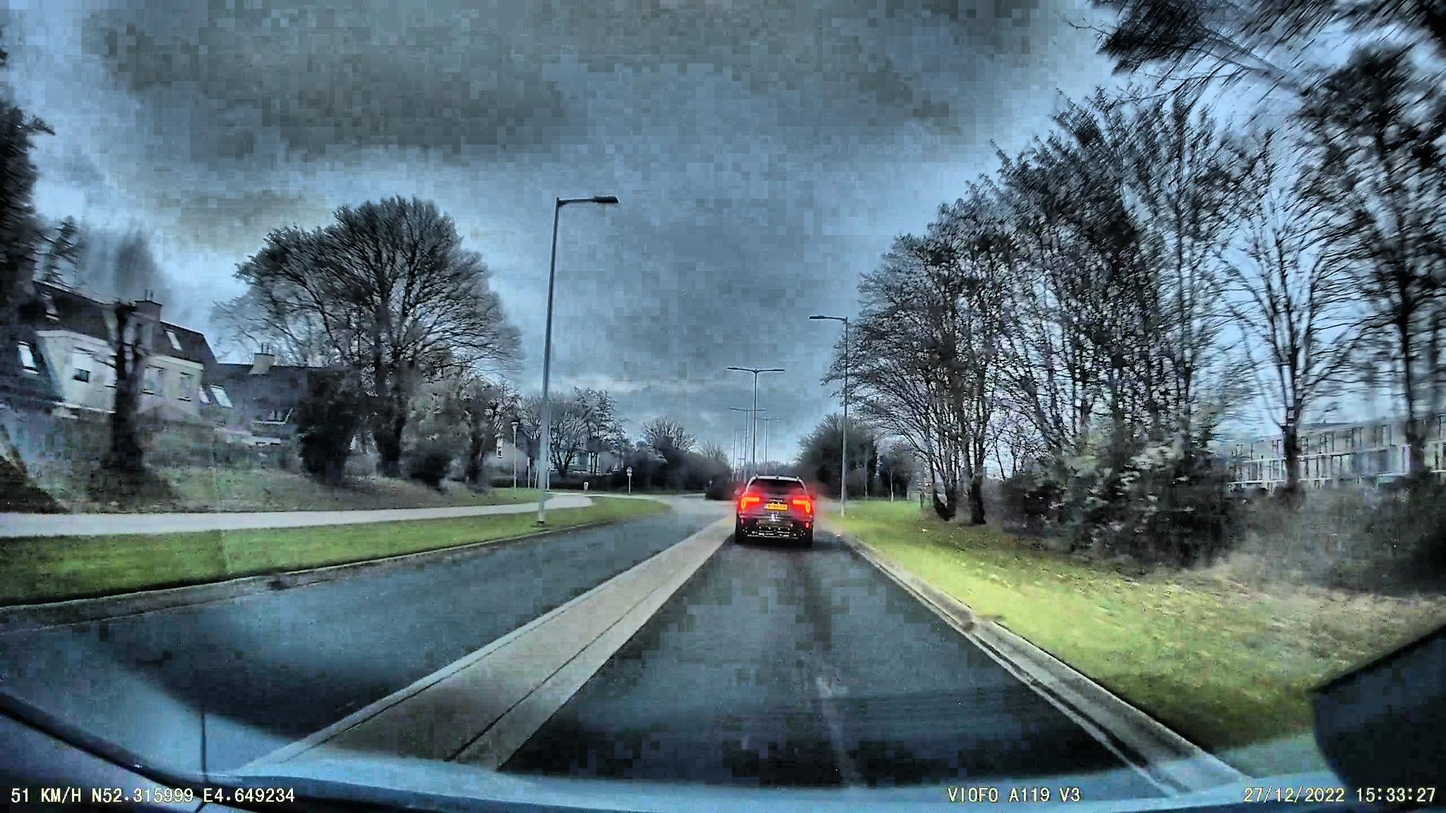Roads: (0, 502, 1243, 813)
